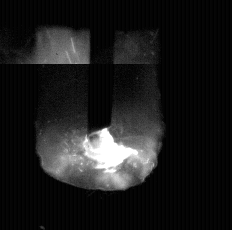arame: (88, 0, 113, 135)
poca: (35, 0, 162, 230)
